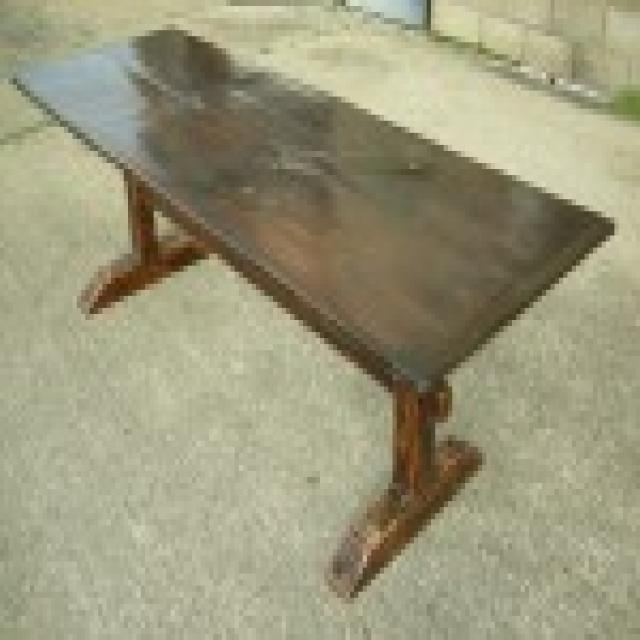table: (9, 26, 619, 602)
